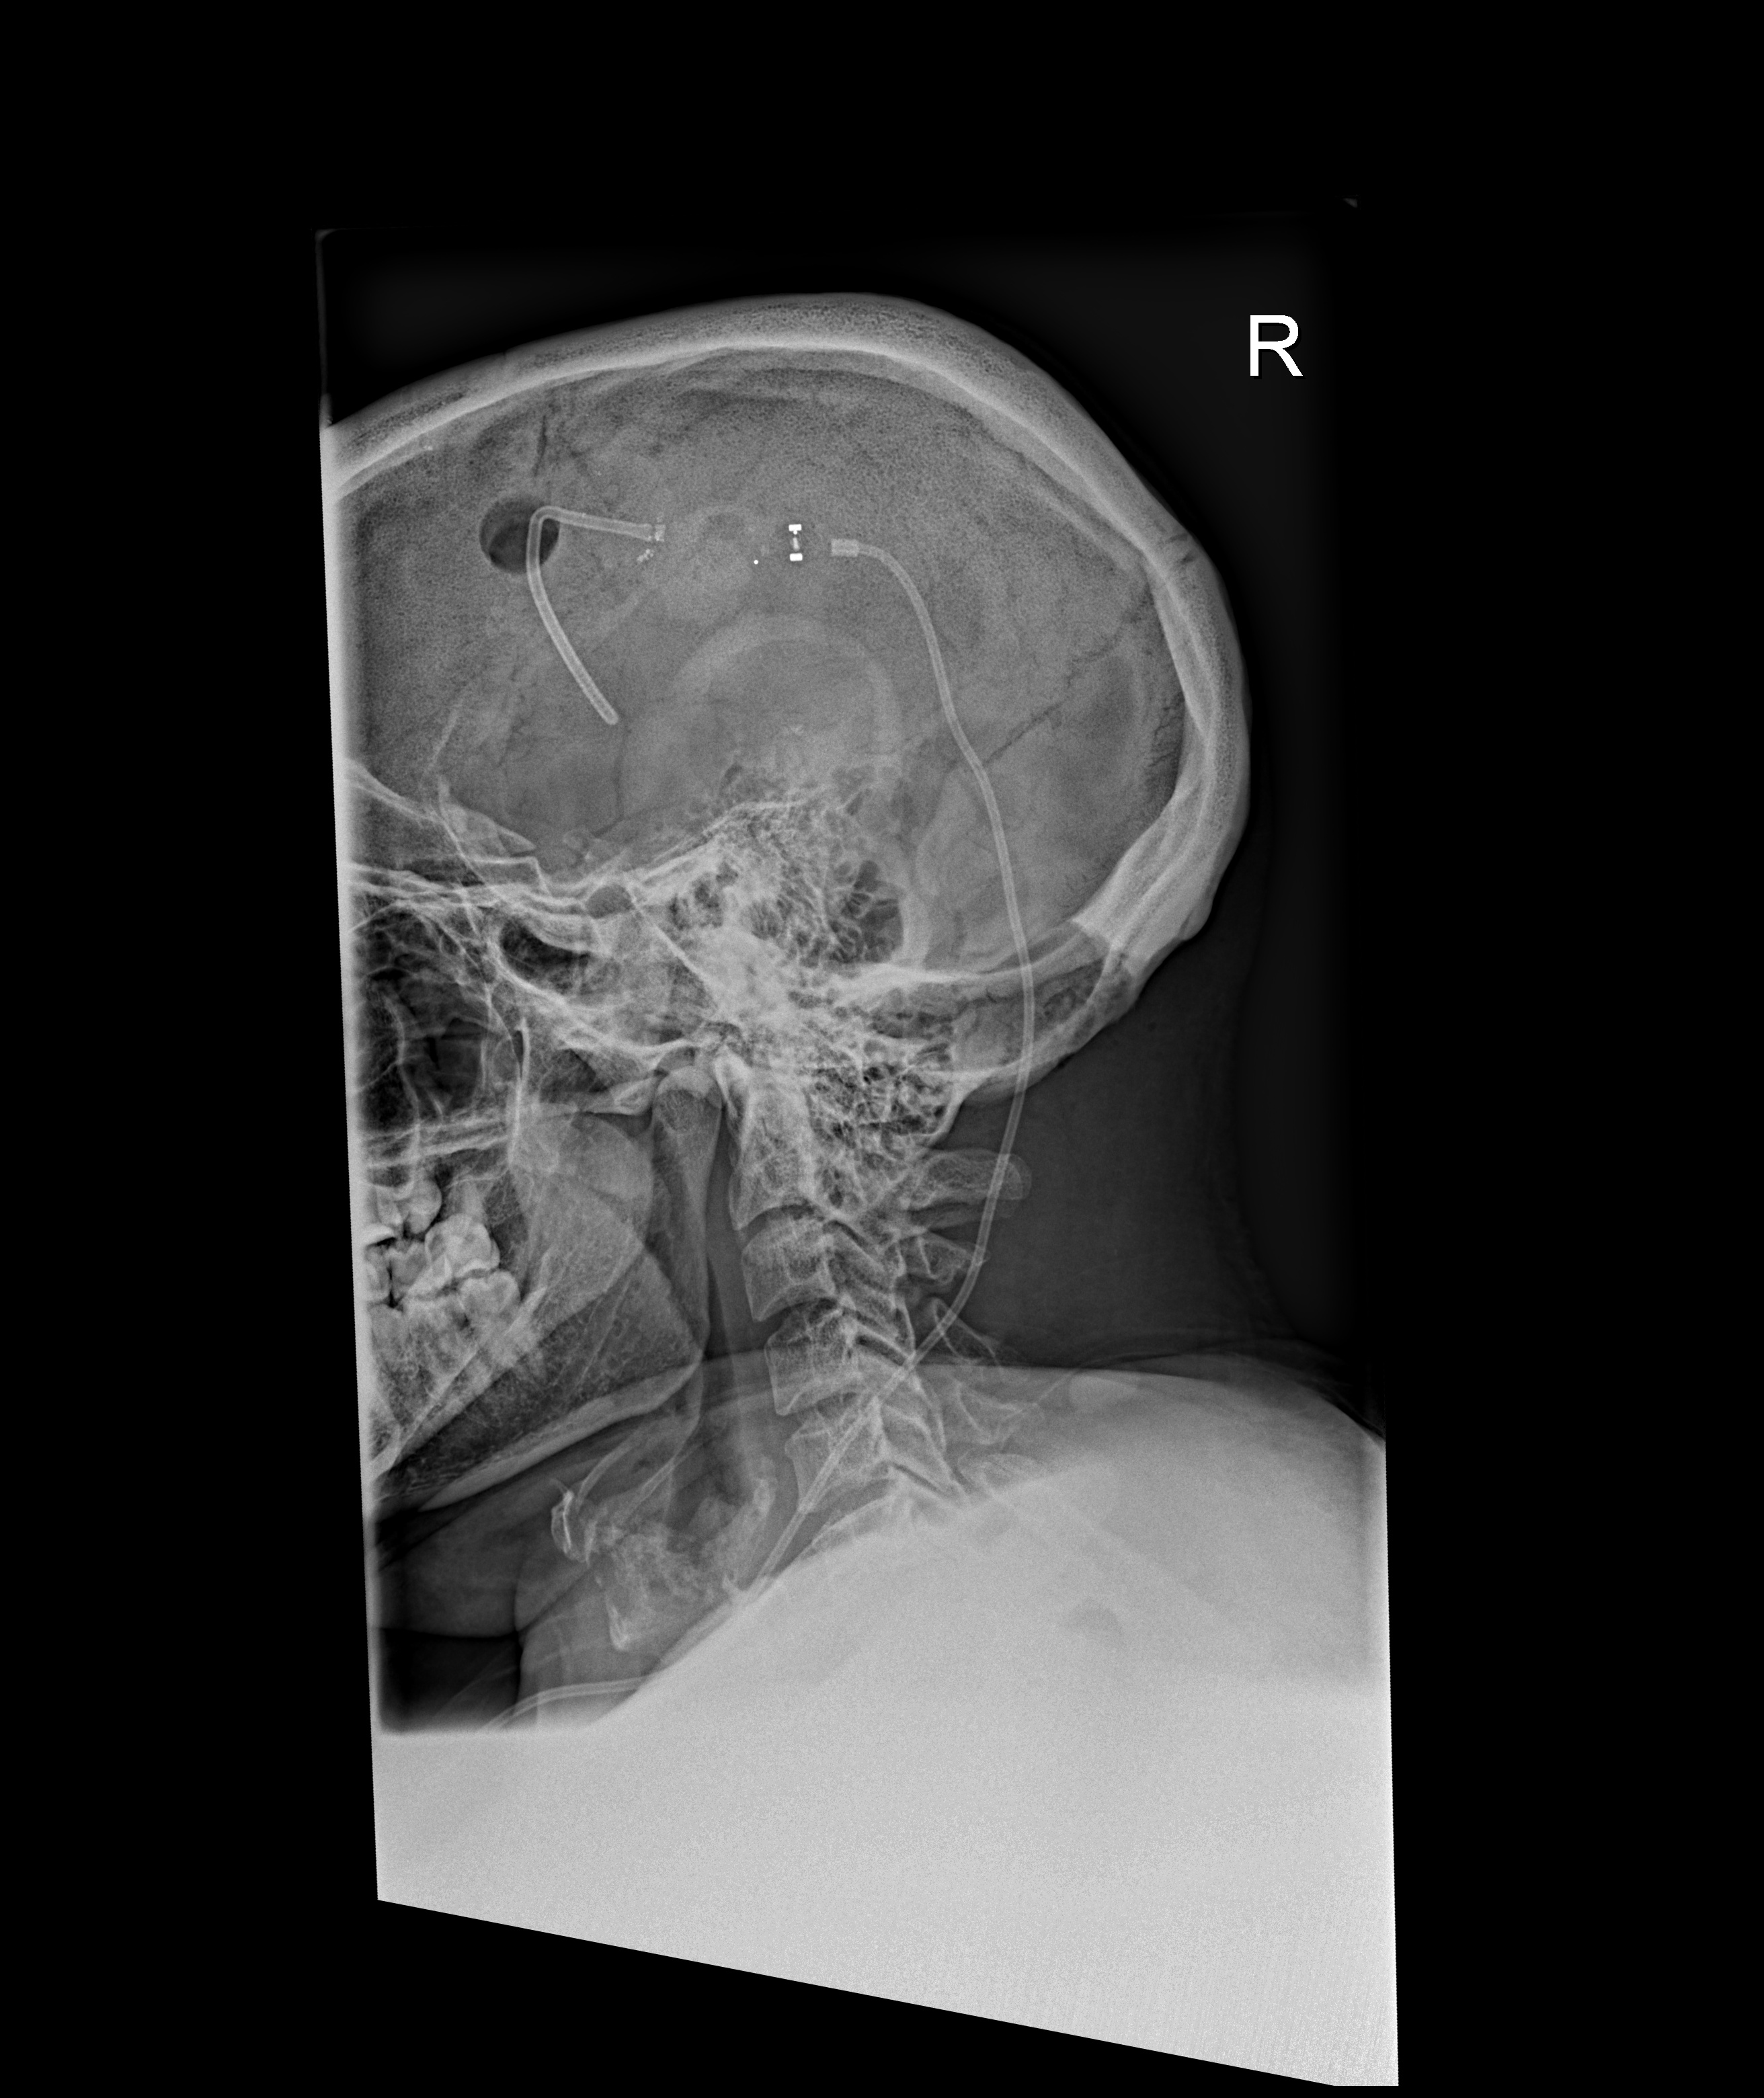Codman Certas: (740, 511, 829, 590)
